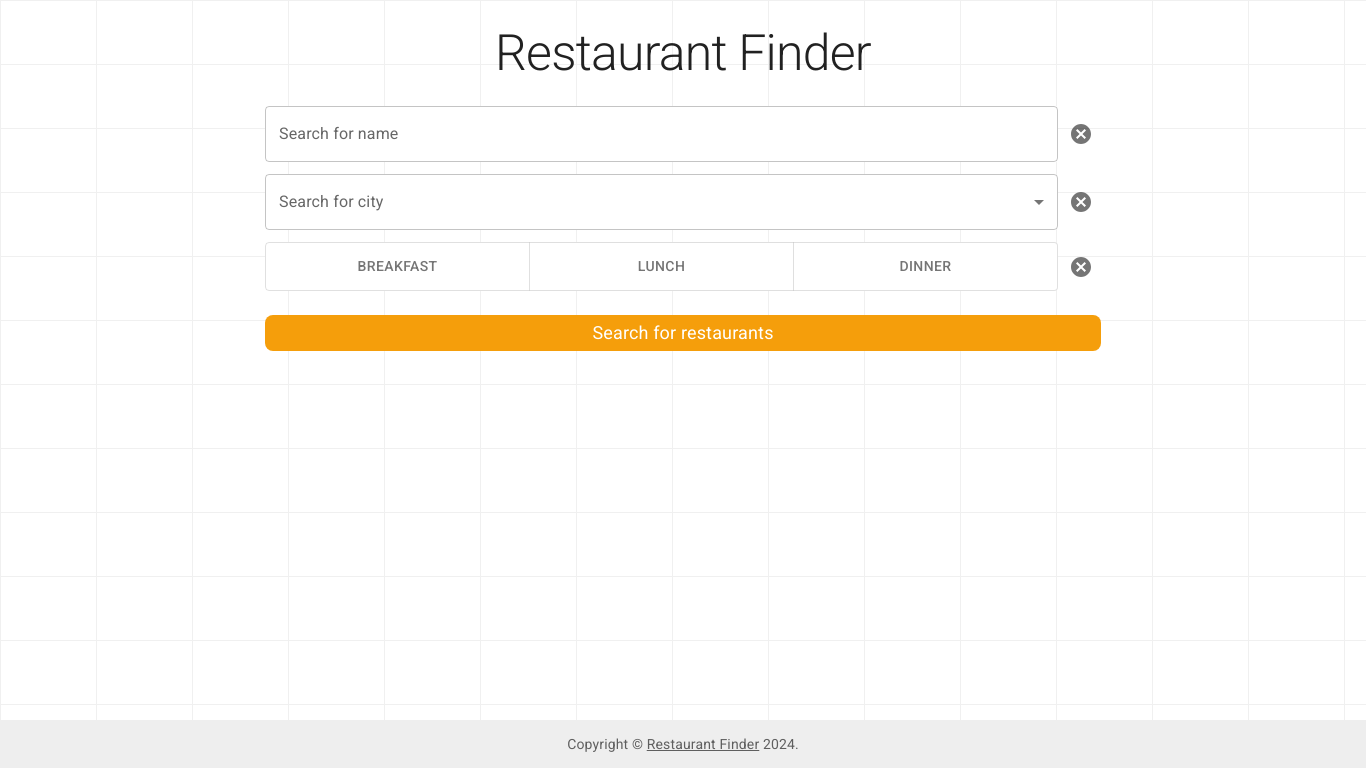
Test: Restaurant Finder testing › Test error input without content
This screenshot has width=1366, height=768.
Click the submit button at (683, 333), box [265, 315, 1101, 351]
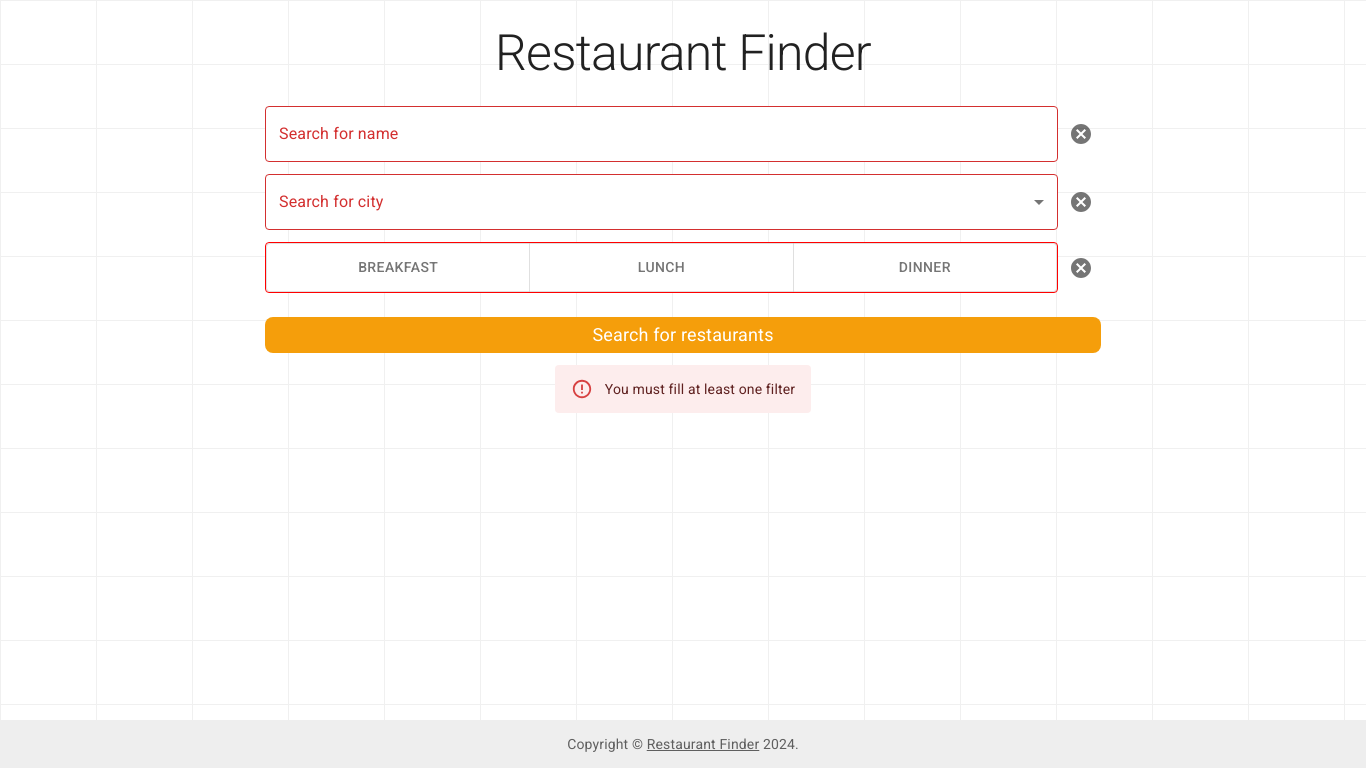
Result: the message "You must fill at least one filter" is shown at [555, 365, 811, 413]
